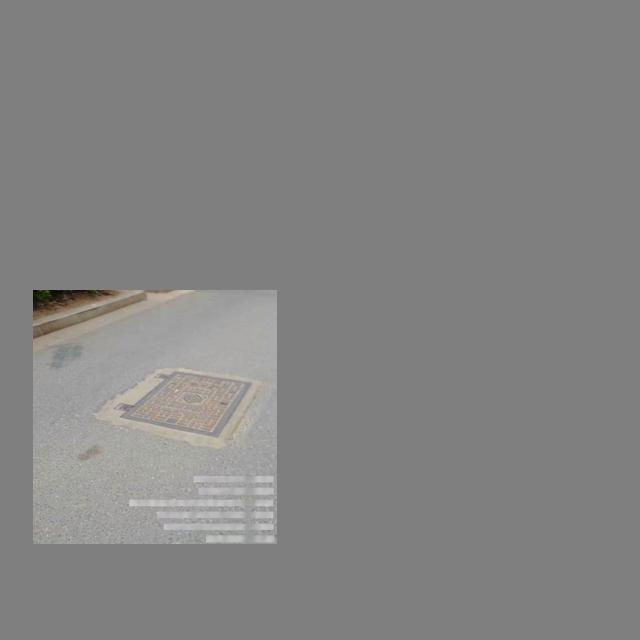good: (102, 368, 255, 435)
